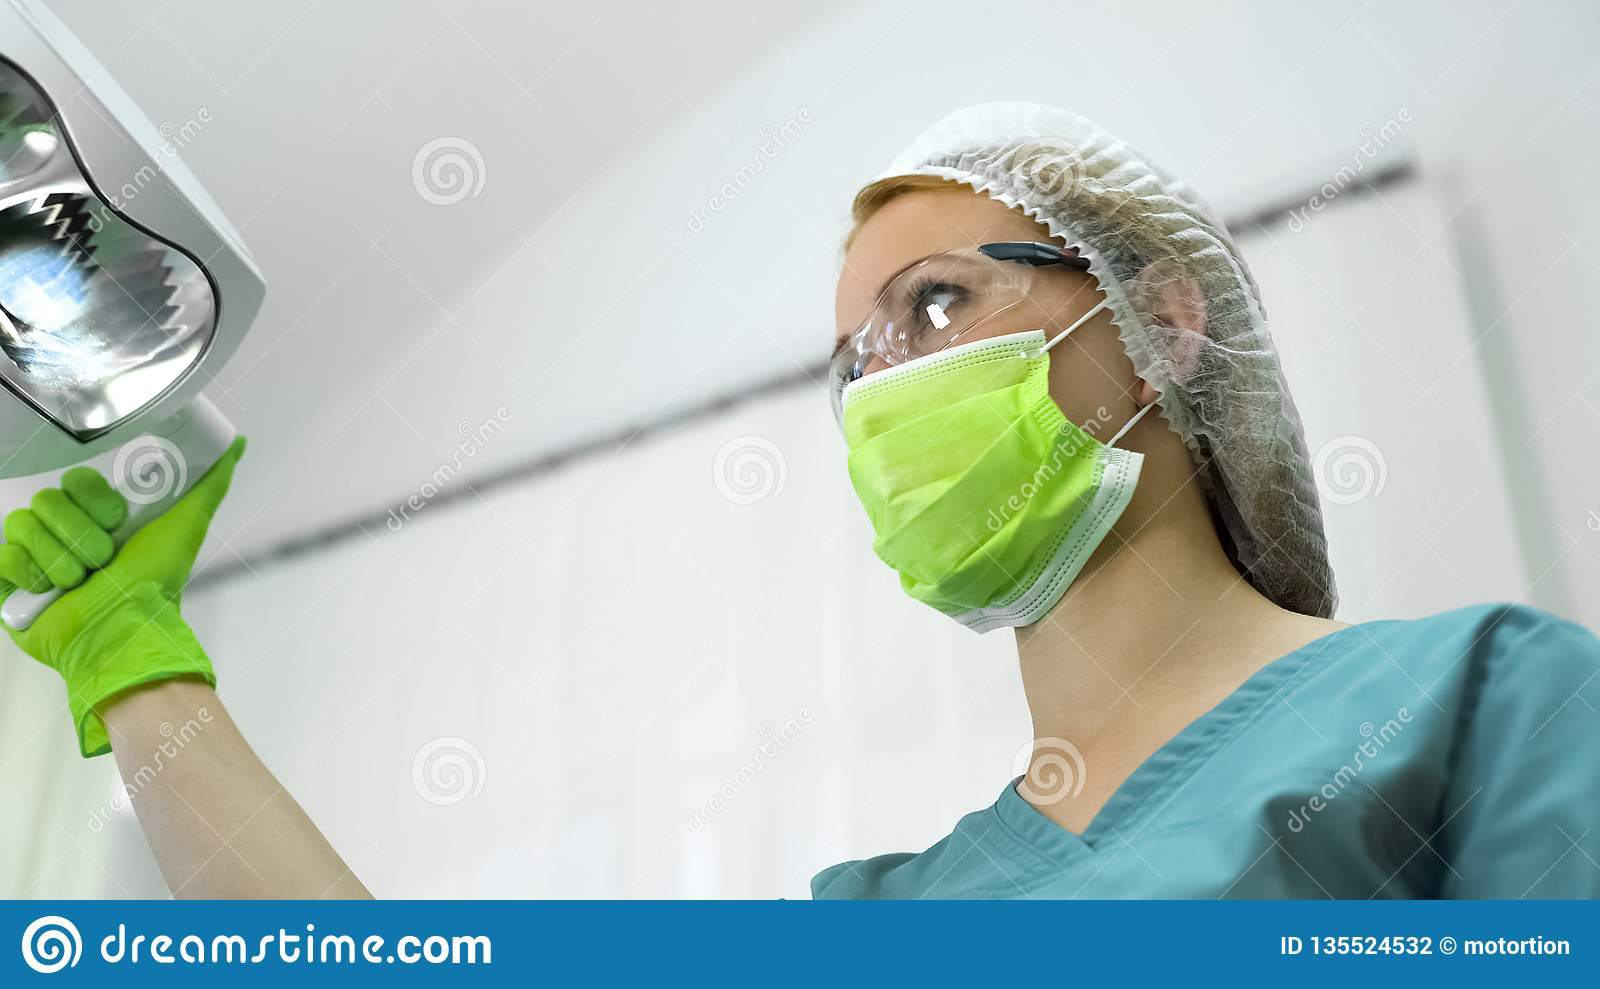mask: (801, 337, 1149, 608)
